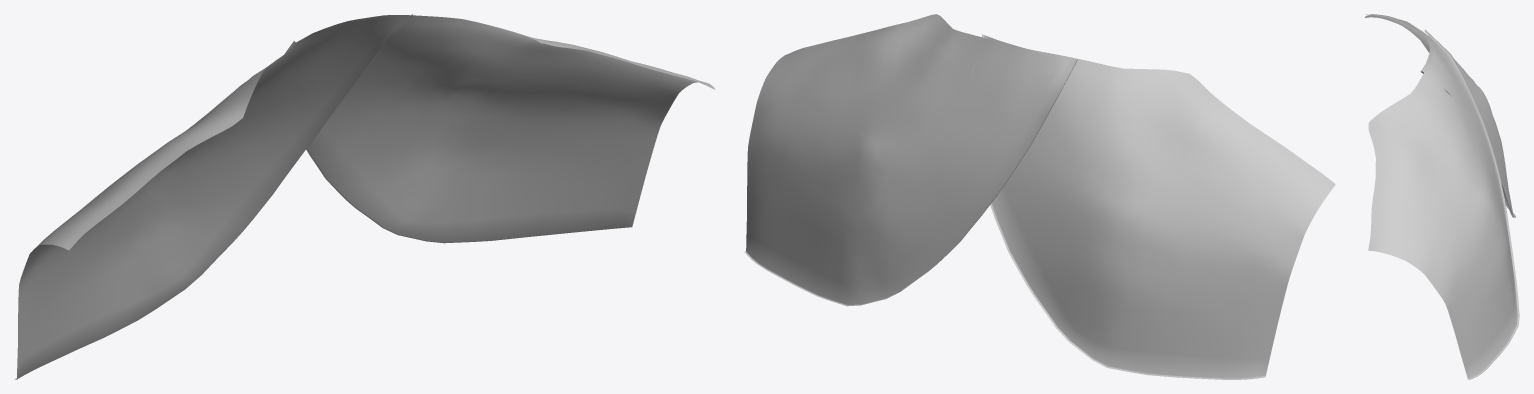
Rendered from Butterfly_Lining.glb.
3 views of the same model, side by side, from view 1: azimuth 30°, elevation 25°; view 2: azimuth 150°, elevation 25°; view 3: azimuth 270°, elevation 25° (orthographic). The views are drawn at different scales.
Parts seen in each view (by area): view 1: Butterfly_Lining; view 2: Butterfly_Lining; view 3: Butterfly_Lining.
Part boxes in pixels (box(x1,y1,x2,y2)): Butterfly_Lining: box(14, 14, 715, 379); Butterfly_Lining: box(744, 14, 1335, 379); Butterfly_Lining: box(1365, 14, 1519, 379).
Size of the model in its own units: 0.0589 by 0.0261 by 0.0164.
1 material, 1 textured.
